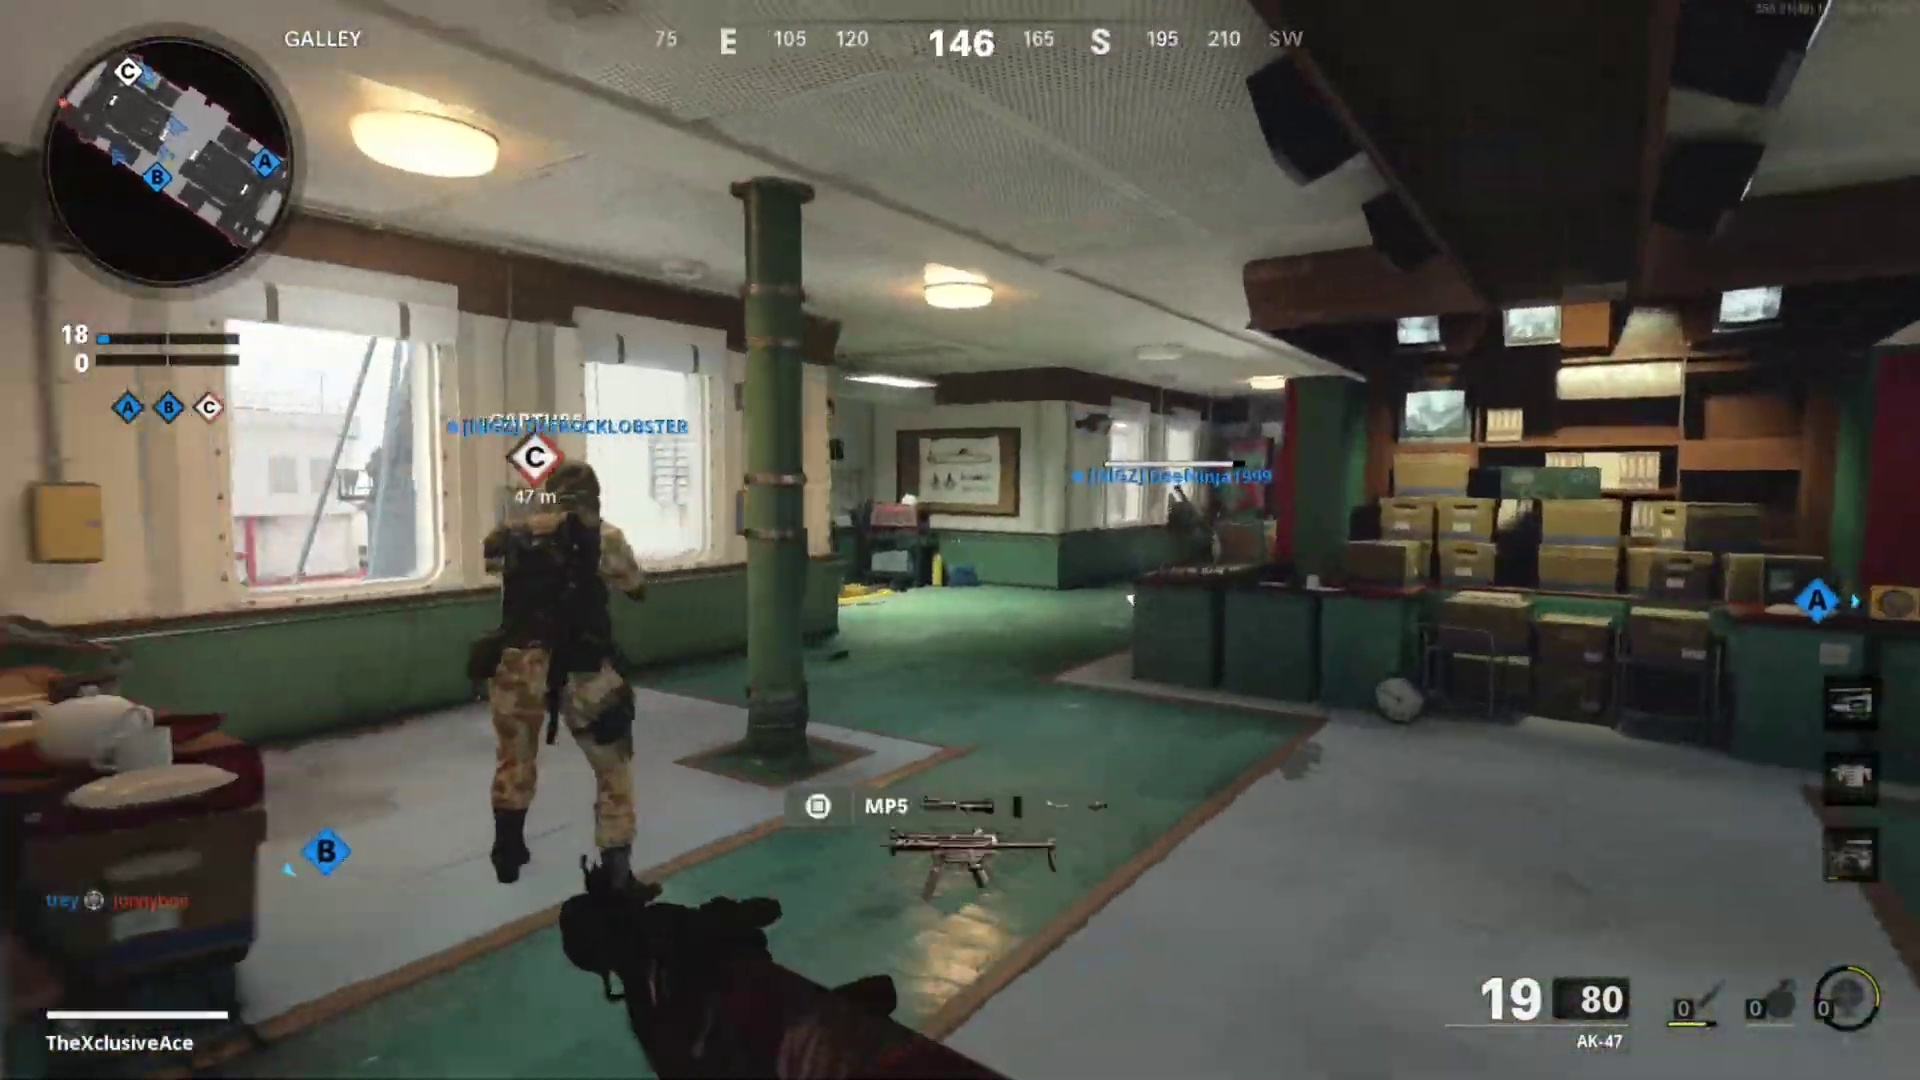head: (508, 429, 564, 491)
person: (461, 451, 647, 886), (1167, 485, 1222, 565)
